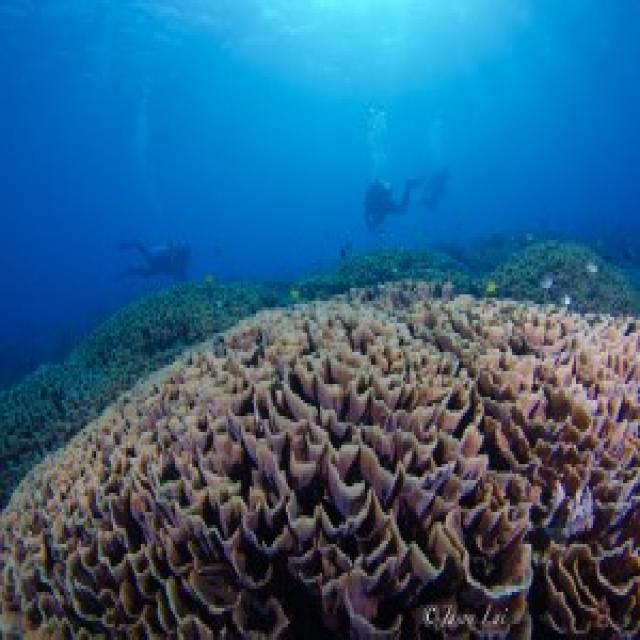Healthy: (1, 283, 639, 638)
